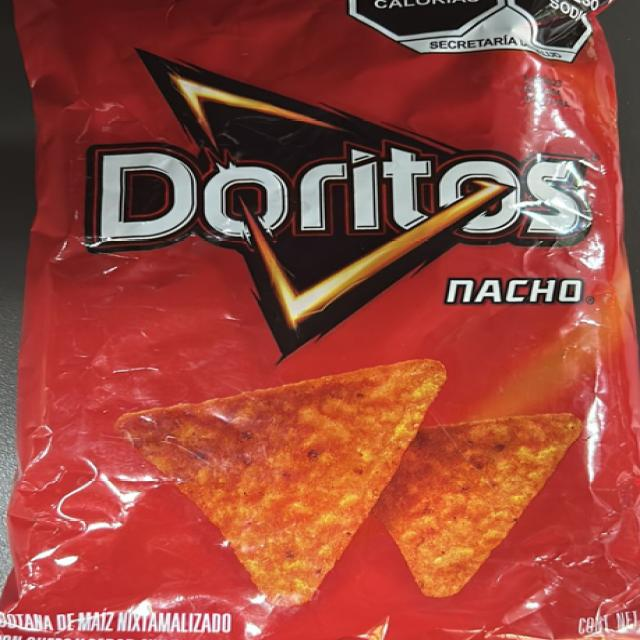doritosNacho: (52, 11, 601, 636)
